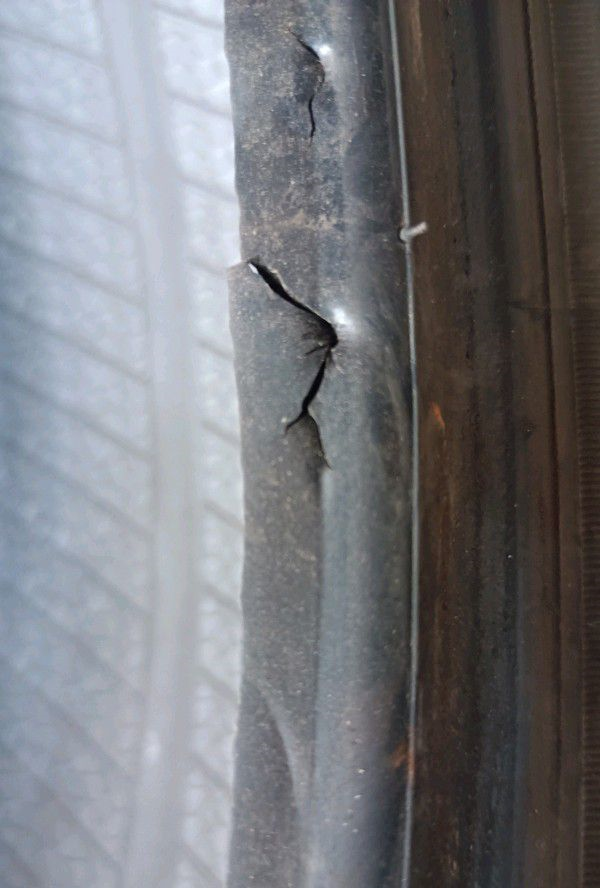bead_damage: (211, 0, 379, 533)
